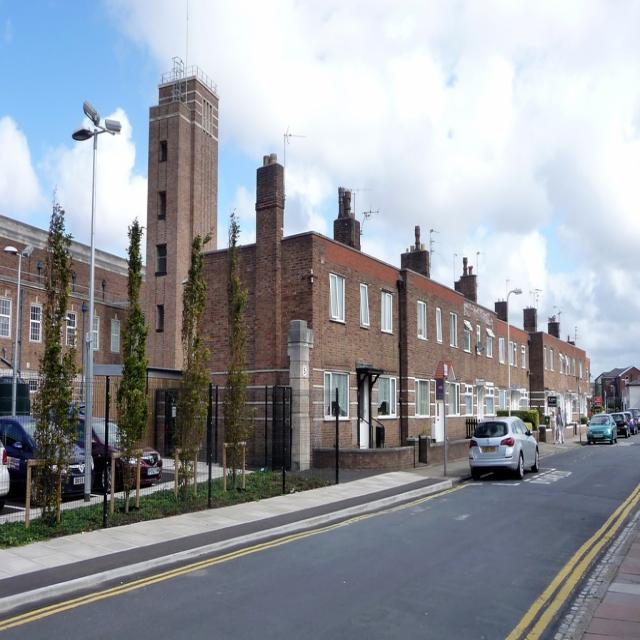car: (468, 415, 541, 480), (584, 412, 616, 448)
